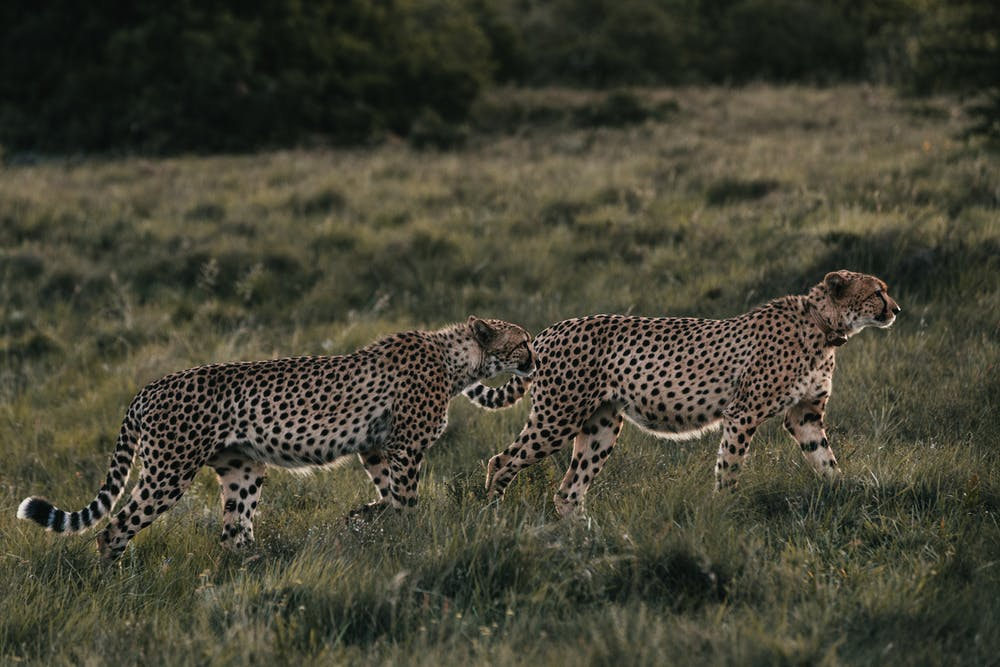cheetah: (822, 264, 903, 340), (469, 313, 547, 377)
